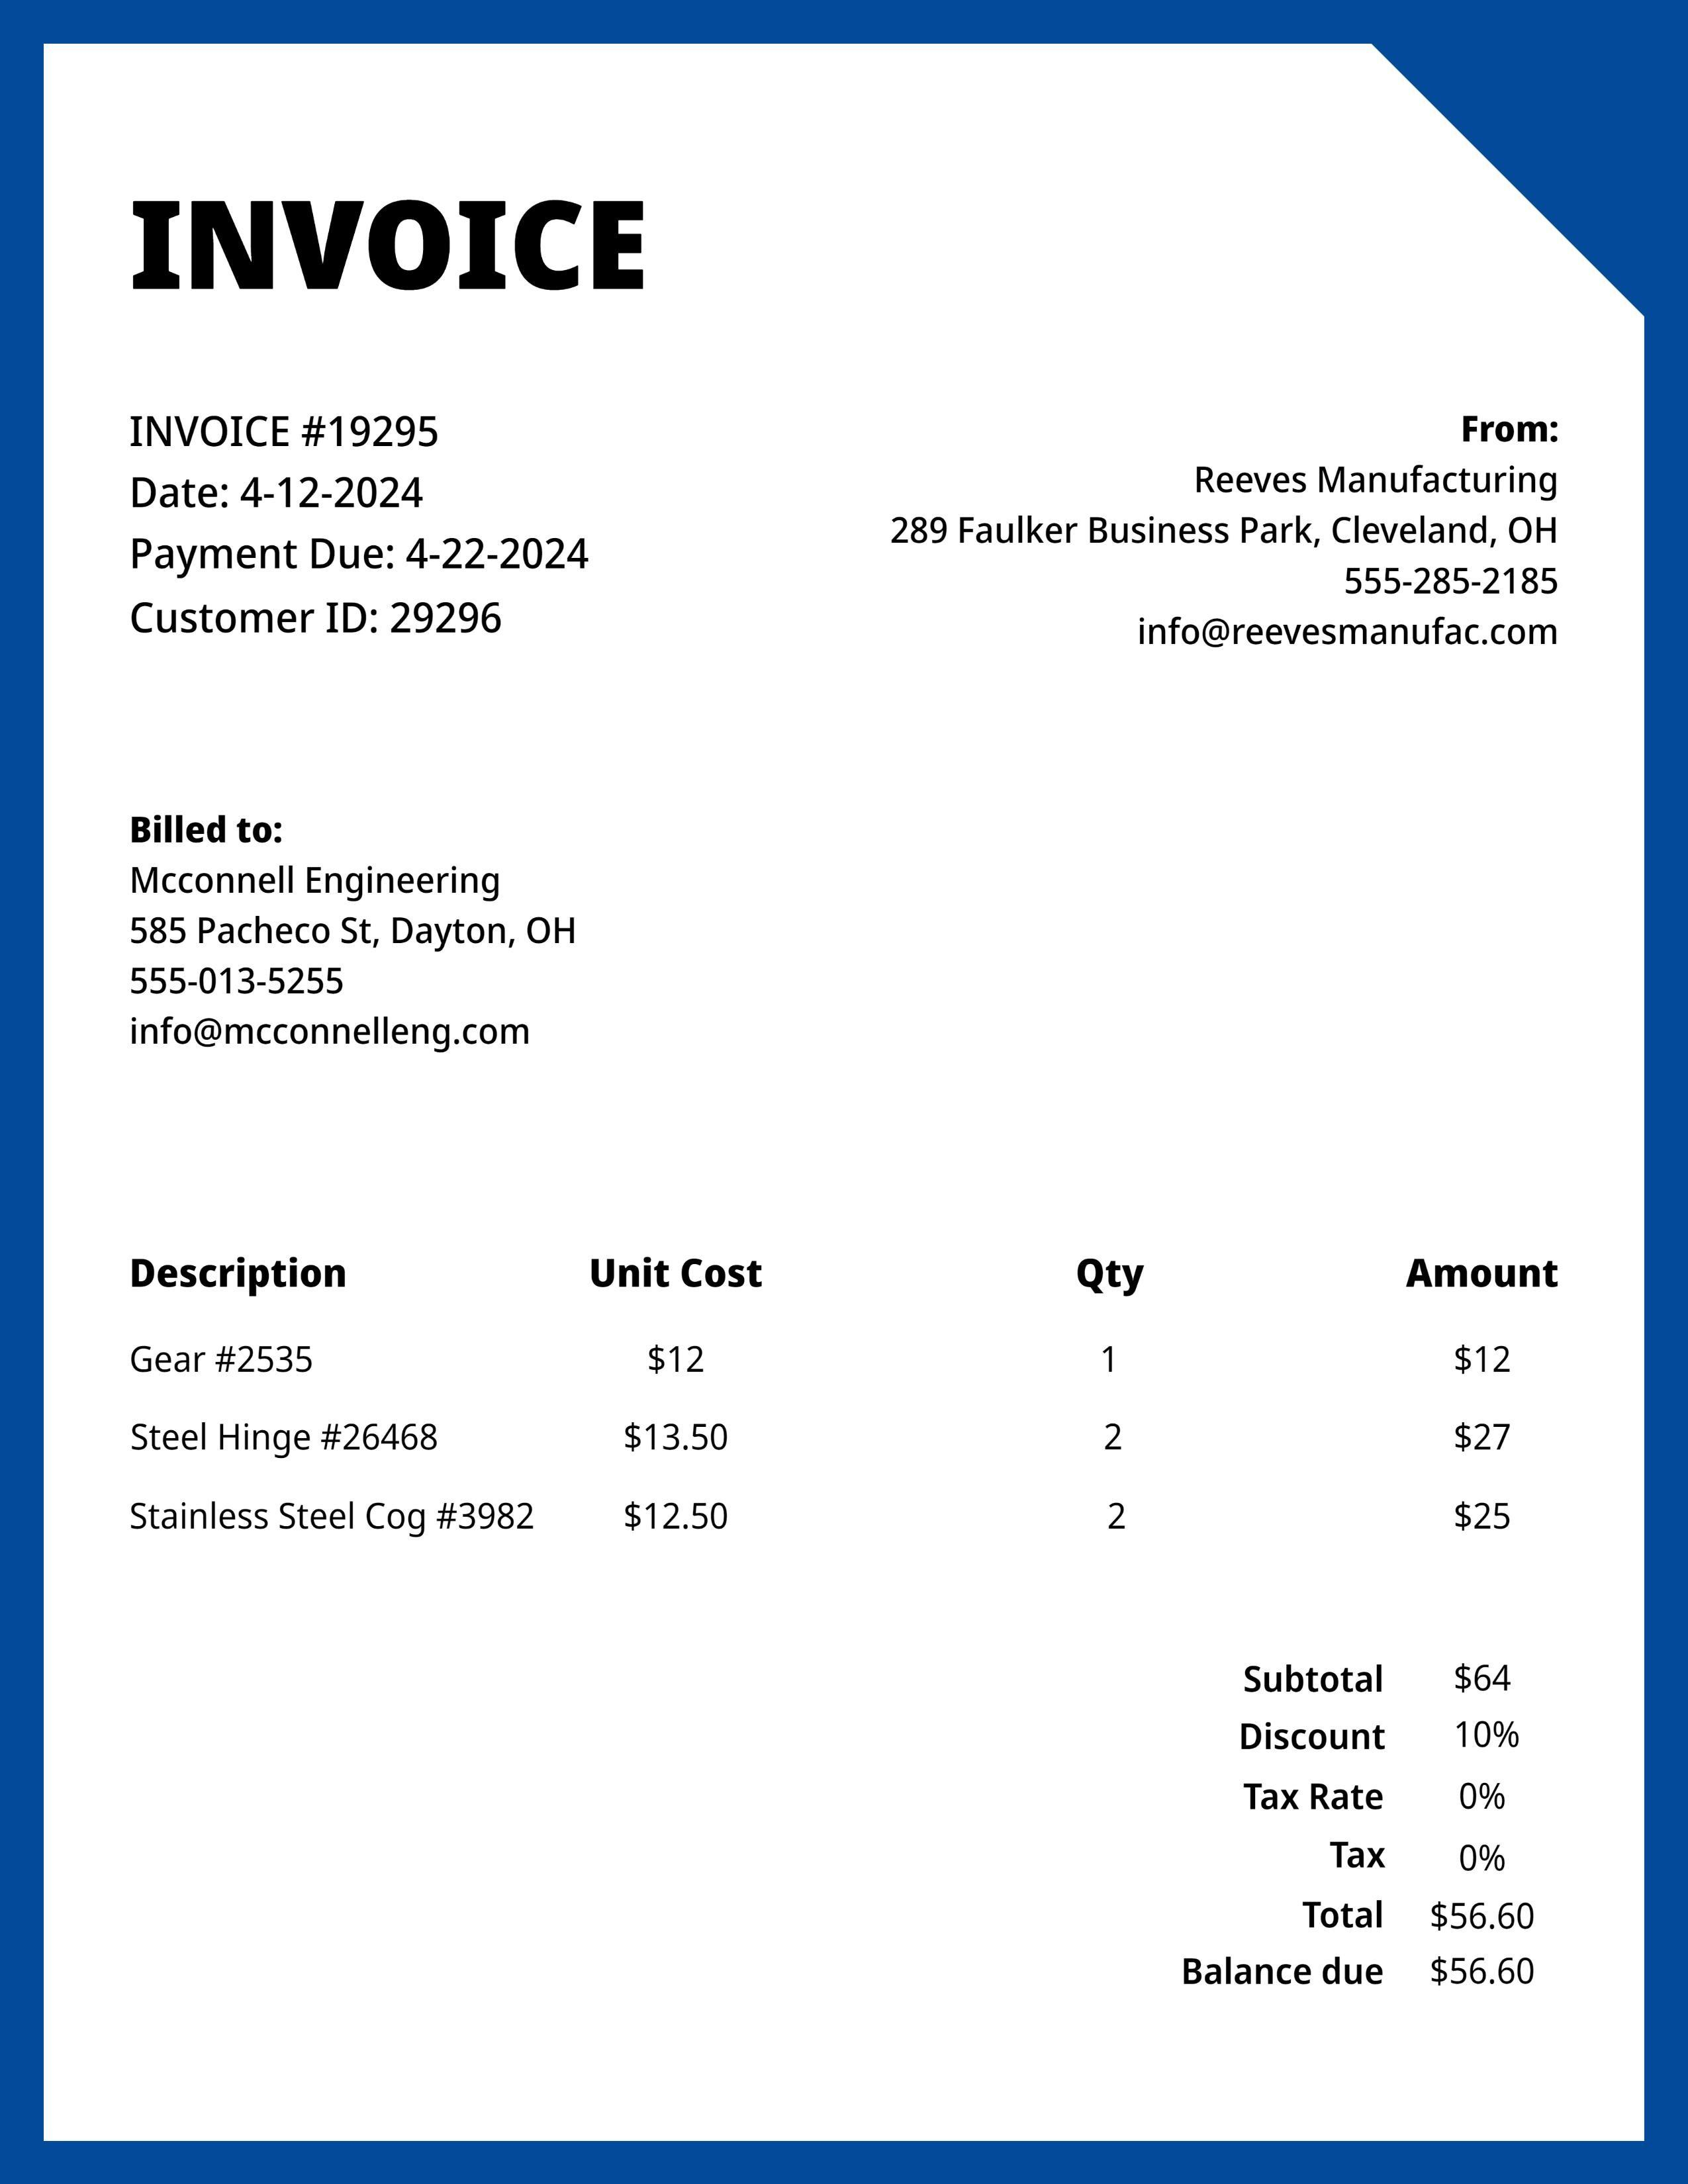ROI: (96, 1214, 1594, 1551), (803, 378, 1606, 695), (1174, 1636, 1567, 2033), (103, 784, 592, 1088), (106, 401, 635, 675)
